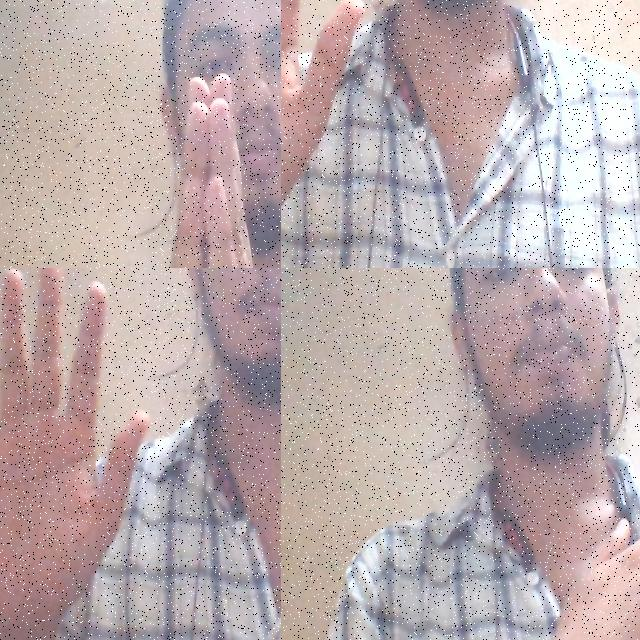Hello: (0, 268, 165, 618), (281, 0, 379, 268)
I love u: (506, 501, 640, 640)
Thank You: (145, 65, 281, 268)
